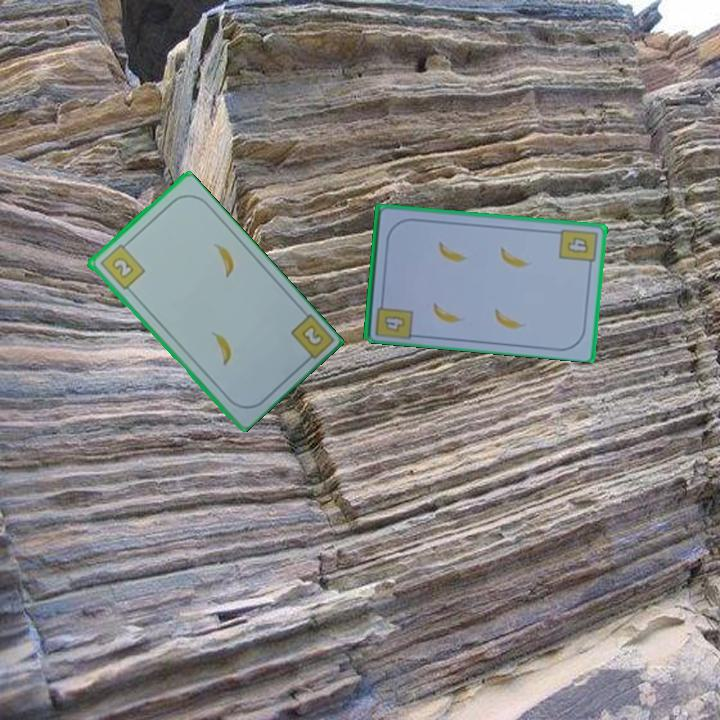2b: (96, 238, 147, 293), (297, 321, 324, 347)
4b: (556, 225, 600, 271), (381, 311, 408, 334)
